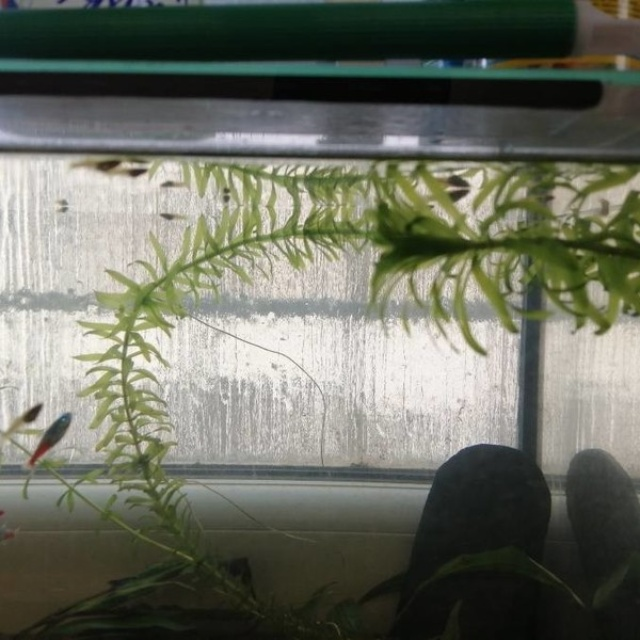obstacle: (95, 139, 627, 475)
